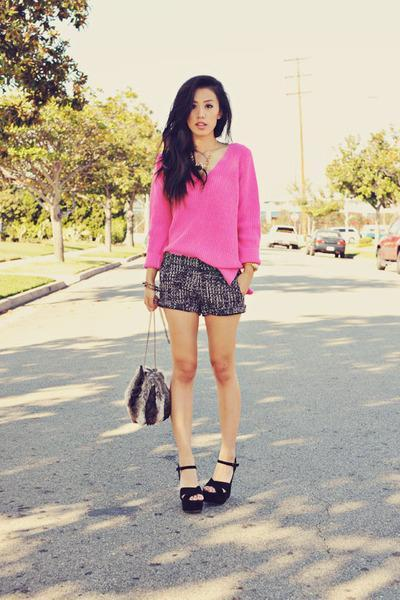bag: (128, 372, 171, 419)
shirt: (132, 140, 260, 276)
shoe: (180, 451, 238, 513)
skirt: (156, 252, 245, 318)
